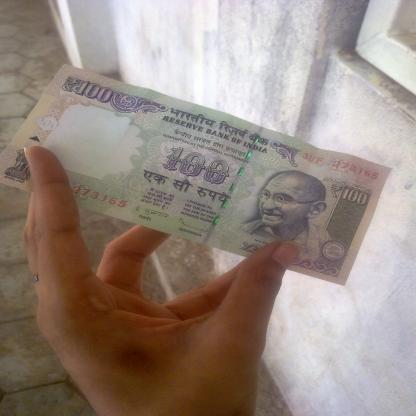Old100Front: (0, 63, 394, 287)
